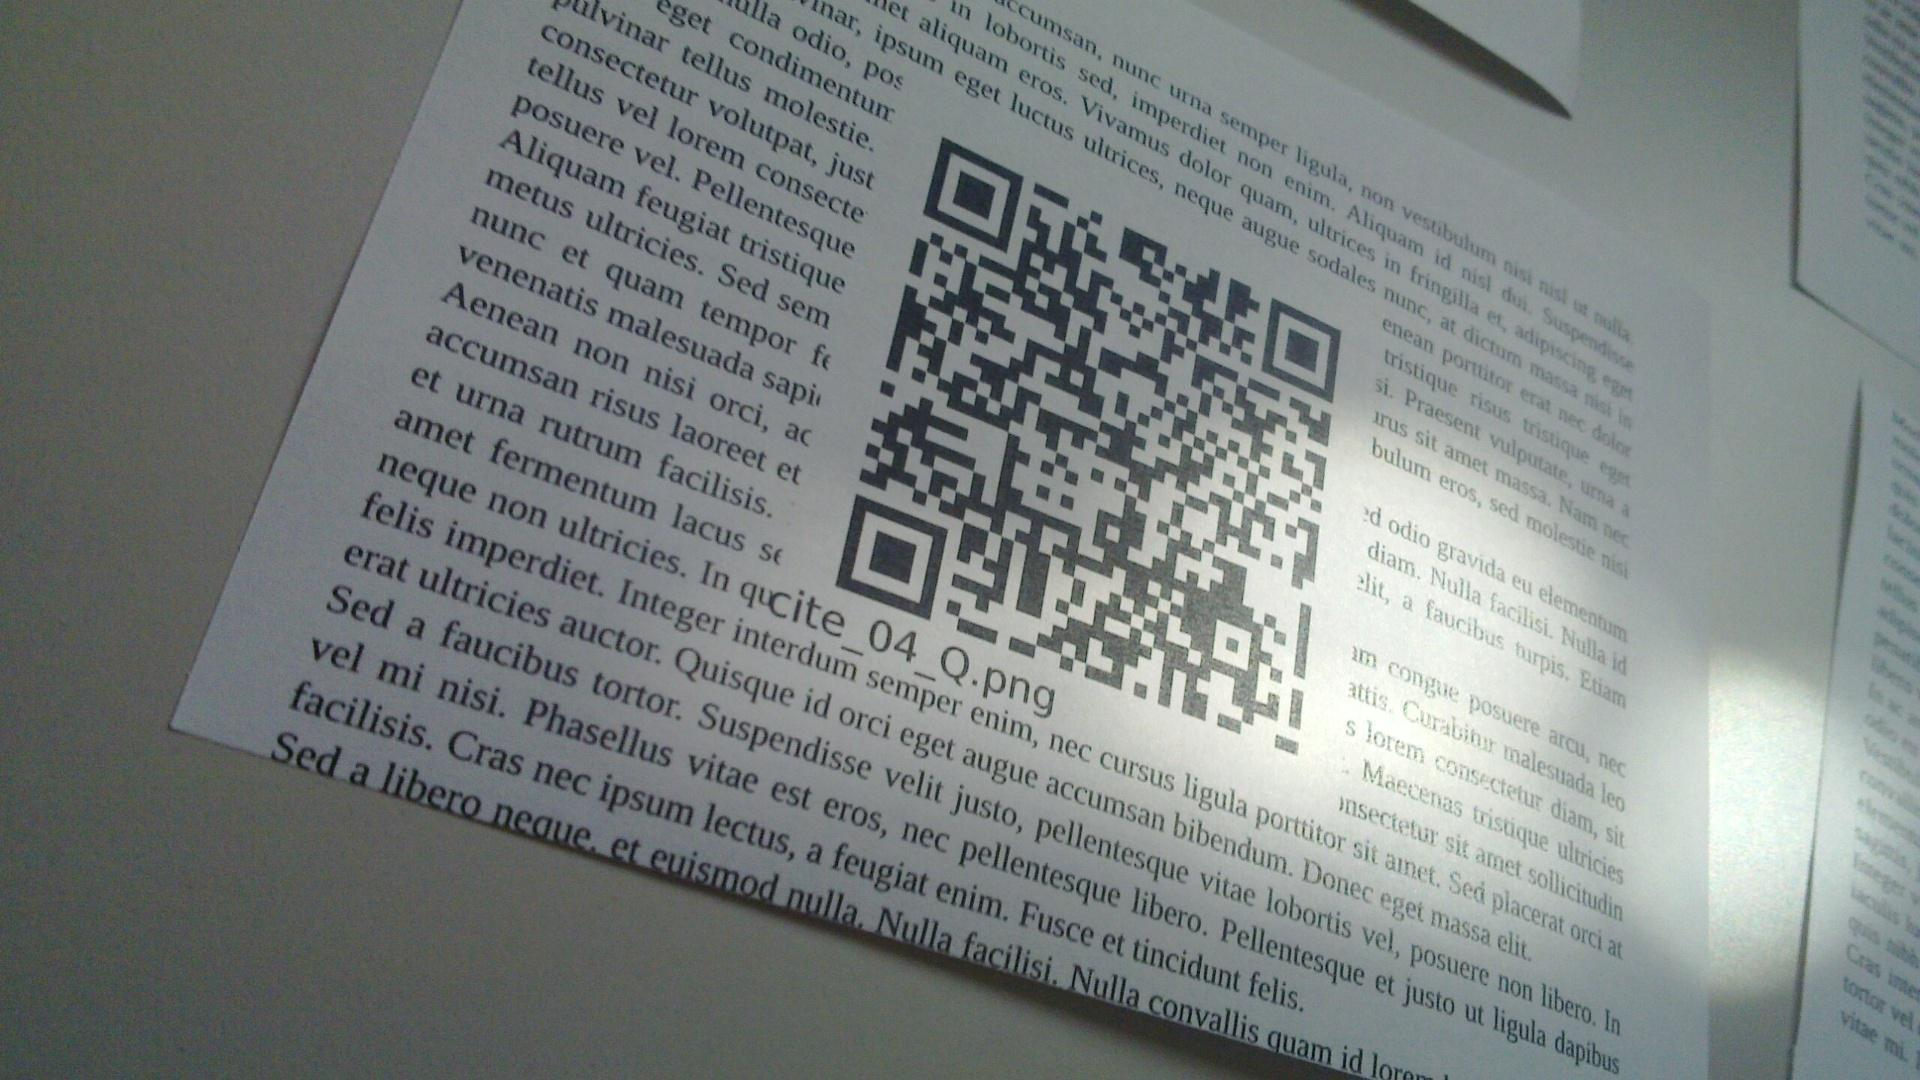qr_code: (835, 136, 1342, 757)
